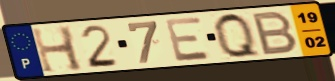2: (79, 24, 120, 70)
7: (125, 20, 160, 65)
B: (251, 9, 300, 57)
E: (162, 15, 213, 63)
H: (29, 24, 86, 75)
Q: (211, 11, 264, 60)
